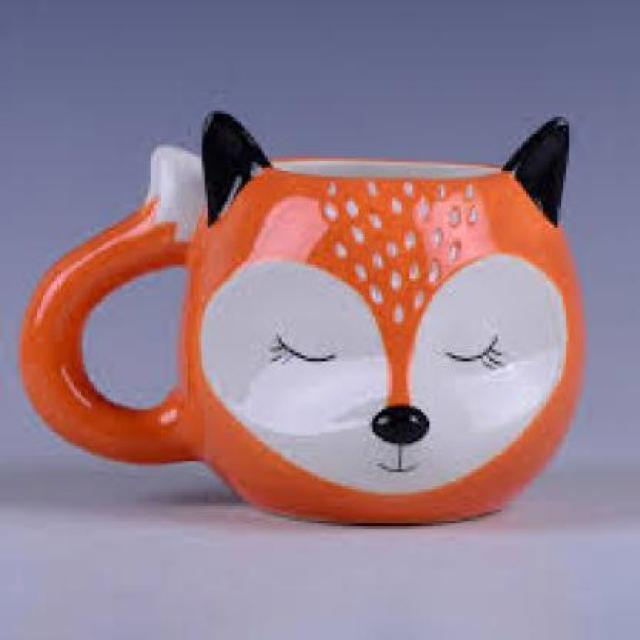cup: (9, 100, 595, 535)
